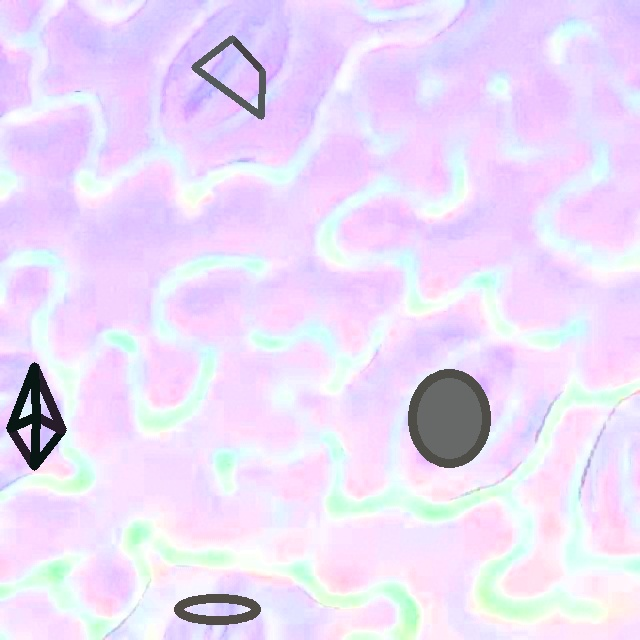open: (408, 369, 490, 467), (6, 362, 66, 470), (191, 35, 265, 119), (173, 593, 261, 625)
